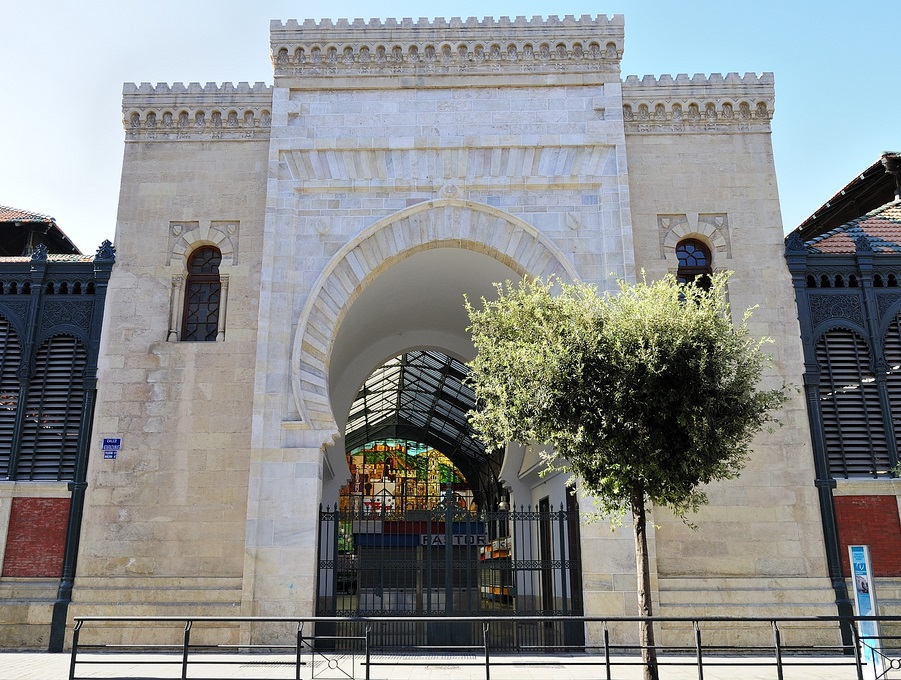arco-herradura: (287, 195, 601, 453), (172, 226, 234, 282), (665, 220, 728, 274)
dintel-adovelado: (279, 144, 617, 182)
